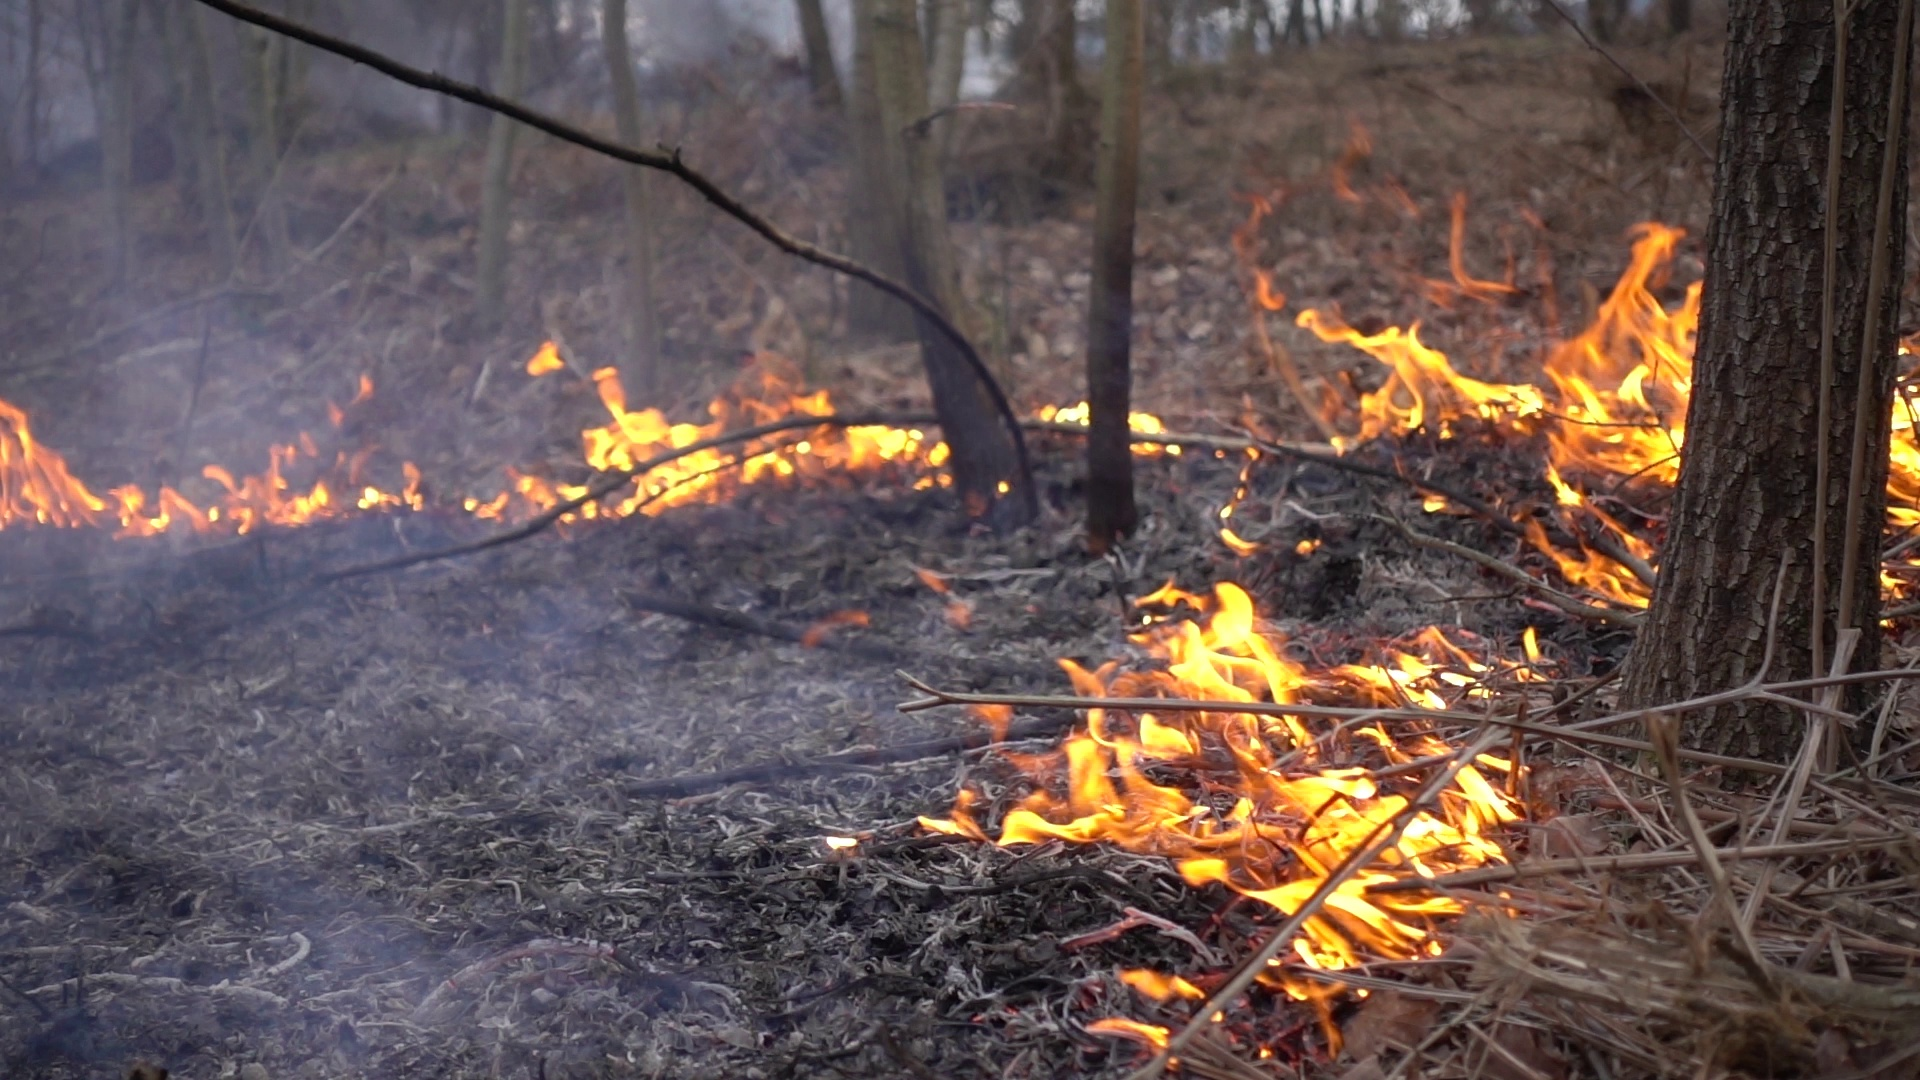fire: (1004, 579, 1536, 1013), (1295, 233, 1696, 601), (484, 372, 919, 518), (1, 402, 426, 533), (1886, 386, 1920, 526), (1126, 407, 1160, 462)
